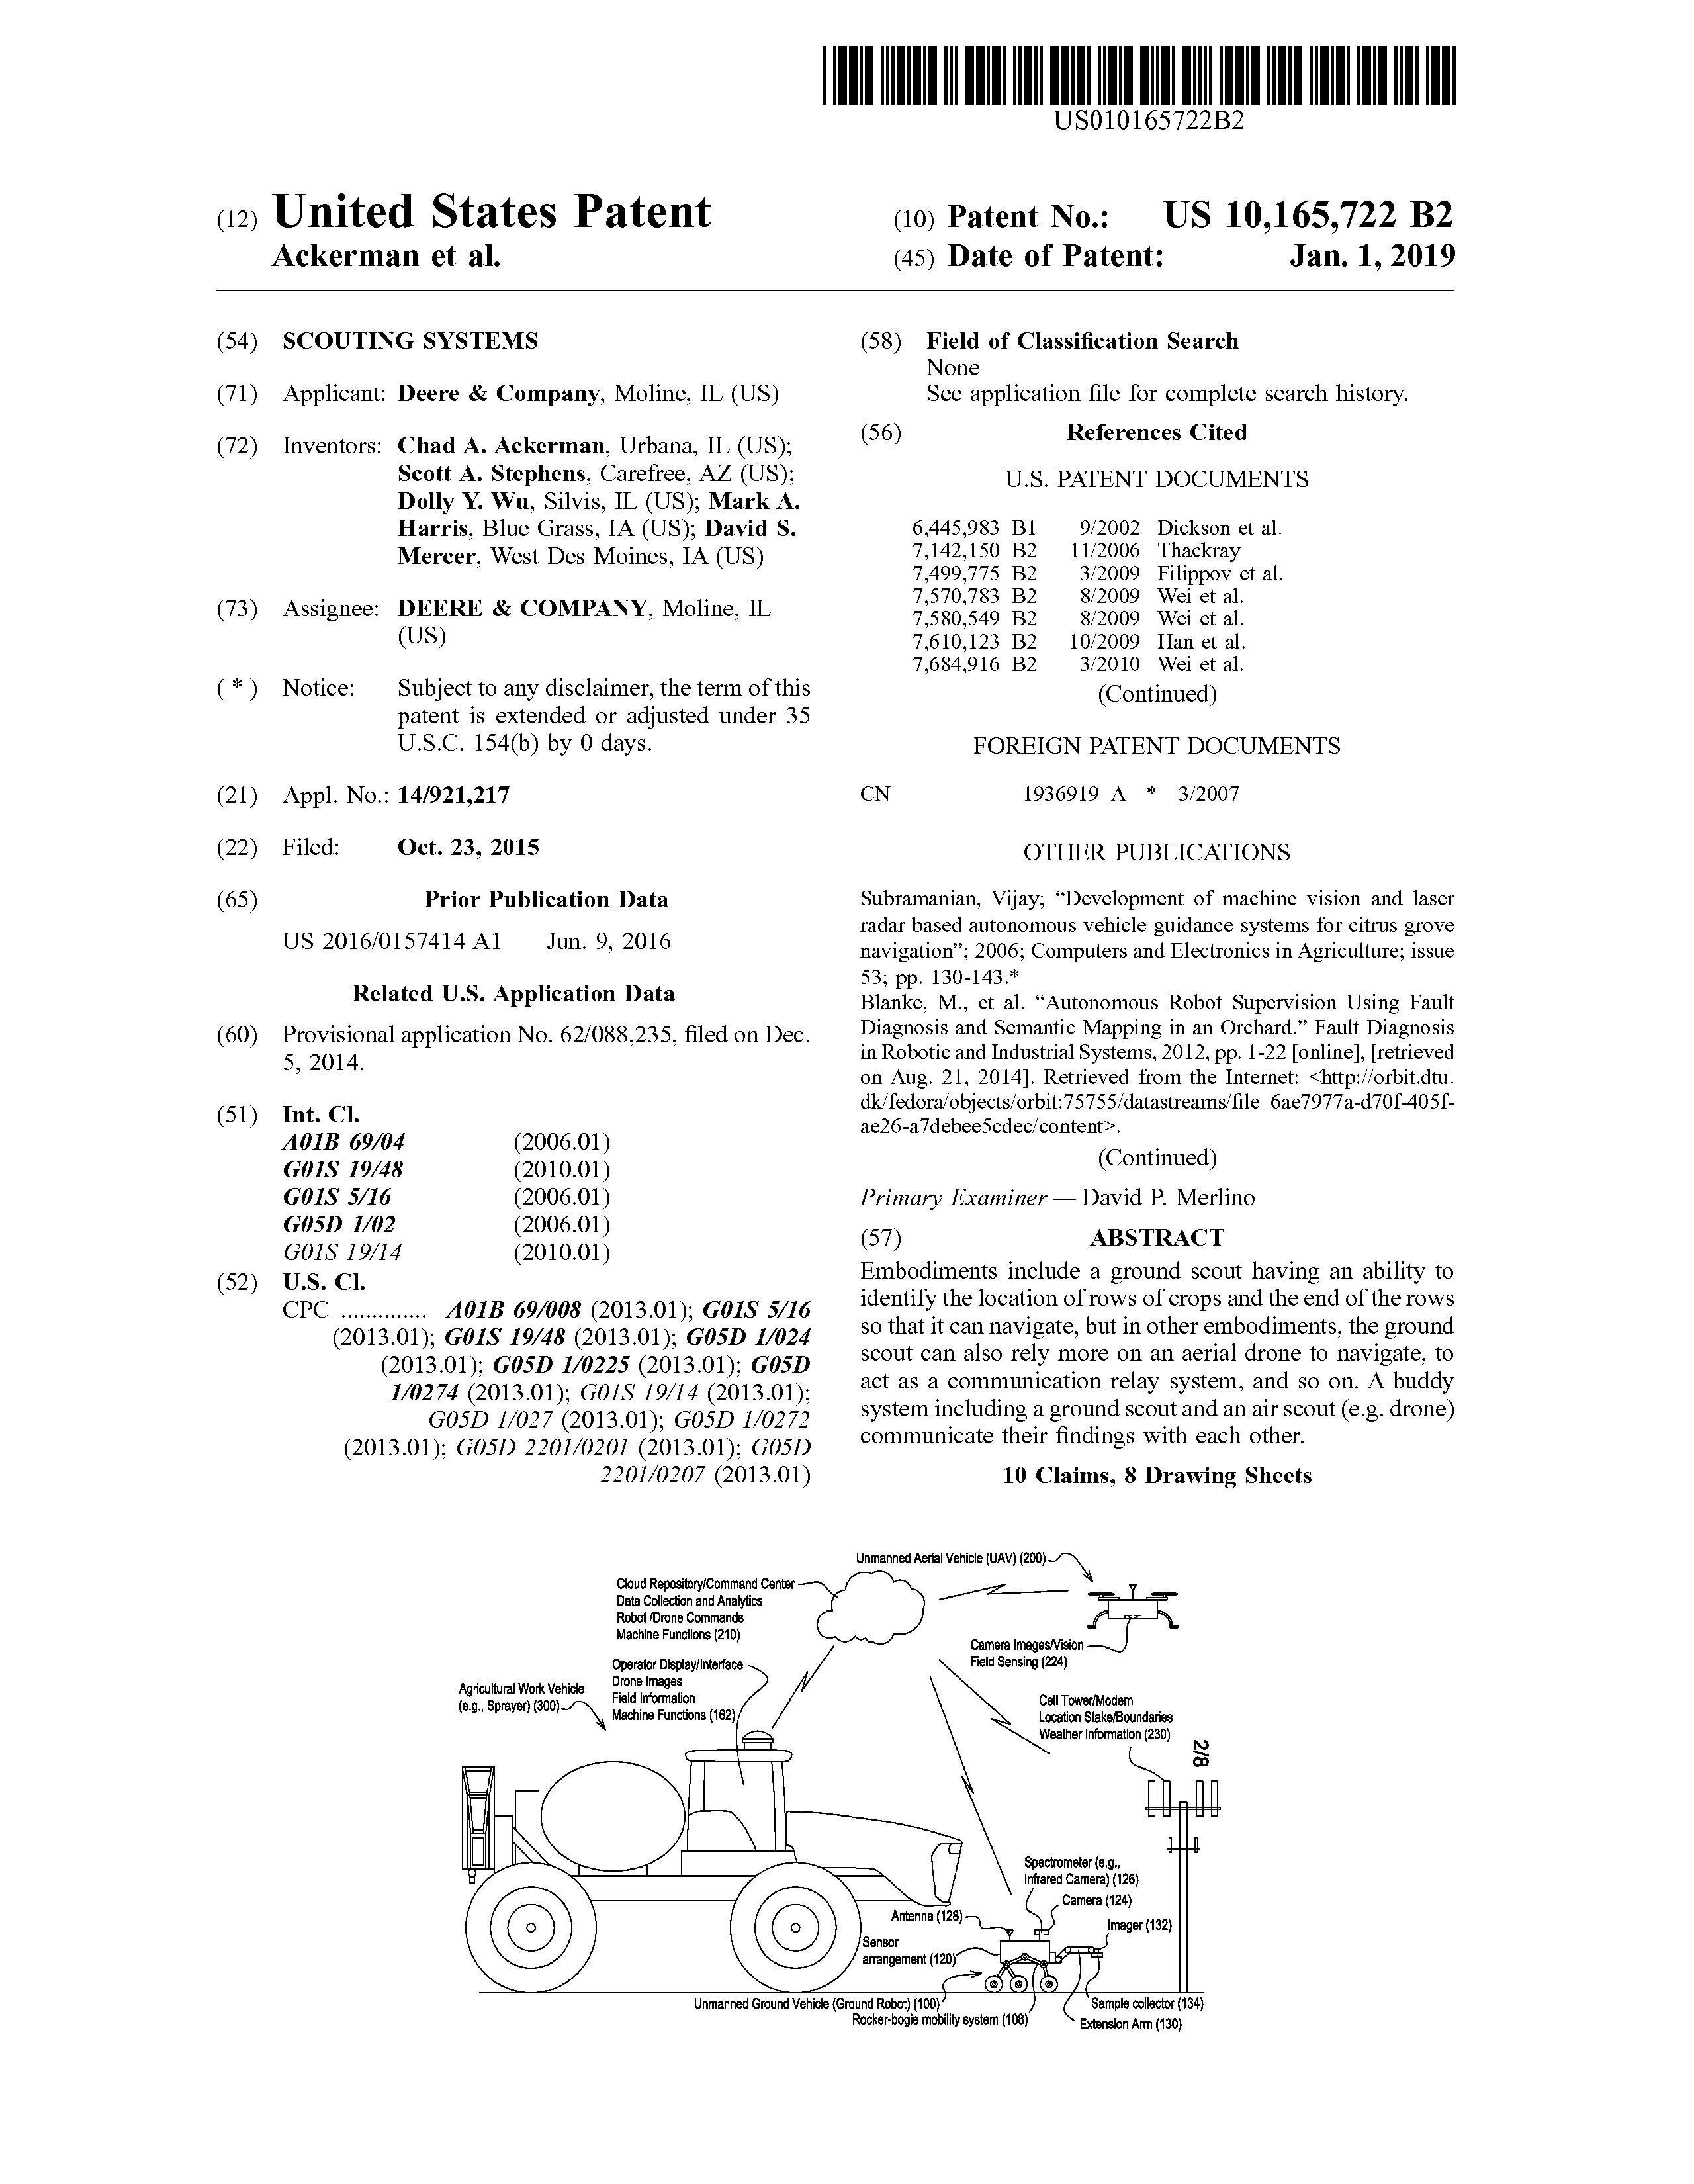patent image: (425, 1531, 1257, 2069)
